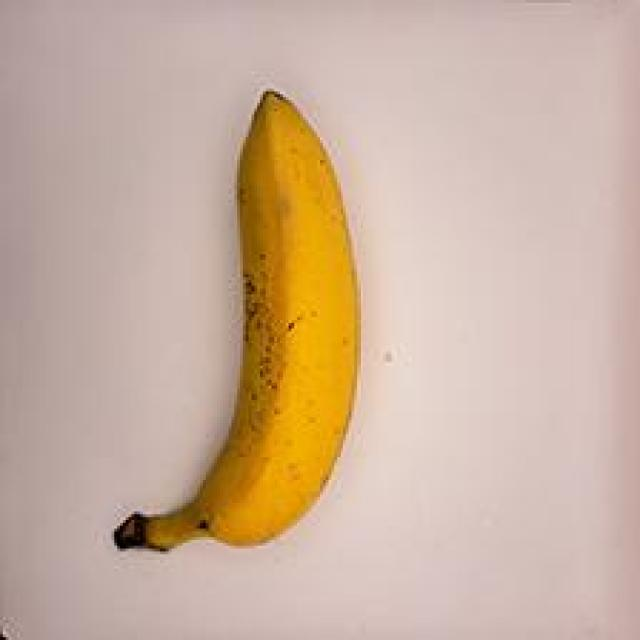Ripe: (78, 60, 387, 595)
